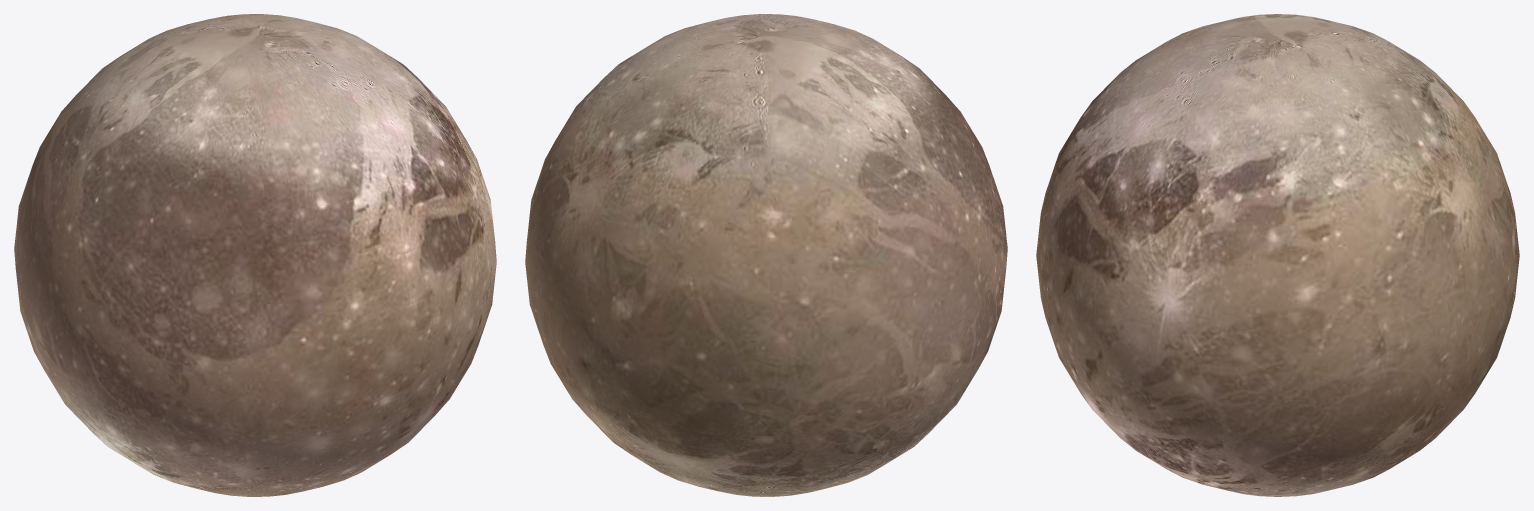
File: ganymede.glb
The picture shows the model from 3 angles, left to right: view 1: azimuth 30°, elevation 25°; view 2: azimuth 150°, elevation 25°; view 3: azimuth 270°, elevation 25°; orthographic projection.
Parts seen in each view (by area): view 1: Ganymede; view 2: Ganymede; view 3: Ganymede.
Boxes of the visible parts, box(x1,y1,x2,y2) form: Ganymede: box(14, 14, 496, 496); Ganymede: box(525, 14, 1007, 496); Ganymede: box(1036, 14, 1519, 496).
Bounding box in the file's own units: 26 × 26 × 26.
Materials: 1 (1 with a texture image).
